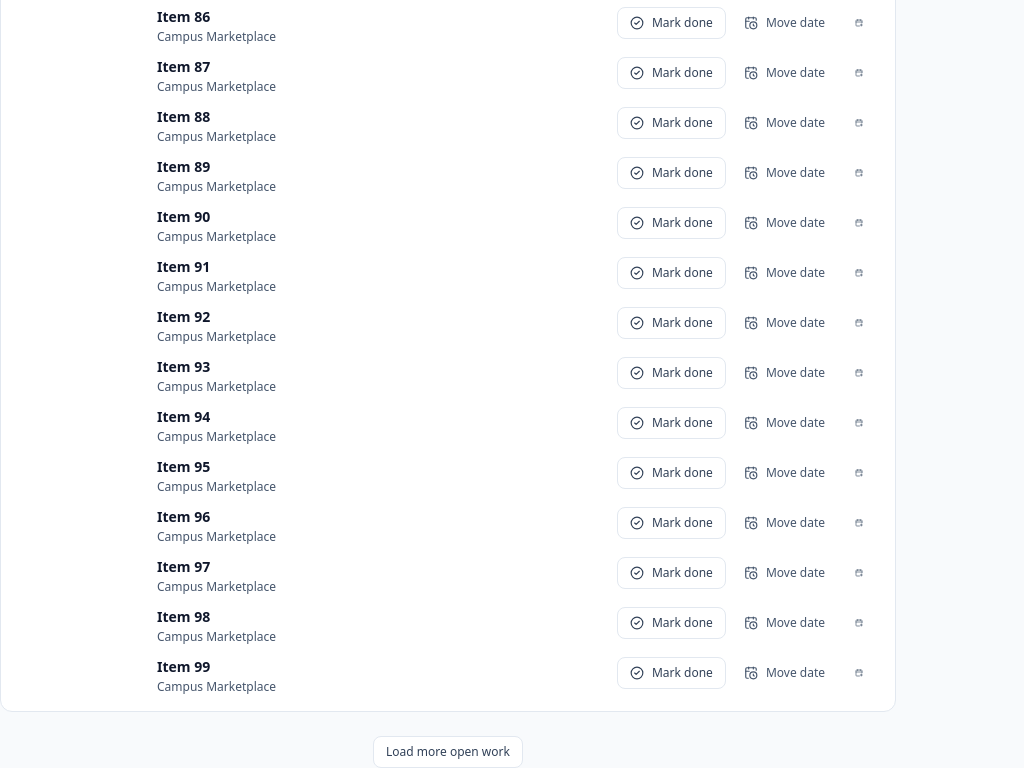
Test: OpenWorkPage — paging a long list › keeps what it has and says so when the next page fails
(page scrolled)
Click the button "Load more open work" at x=448, y=752, box [373,736,523,767]
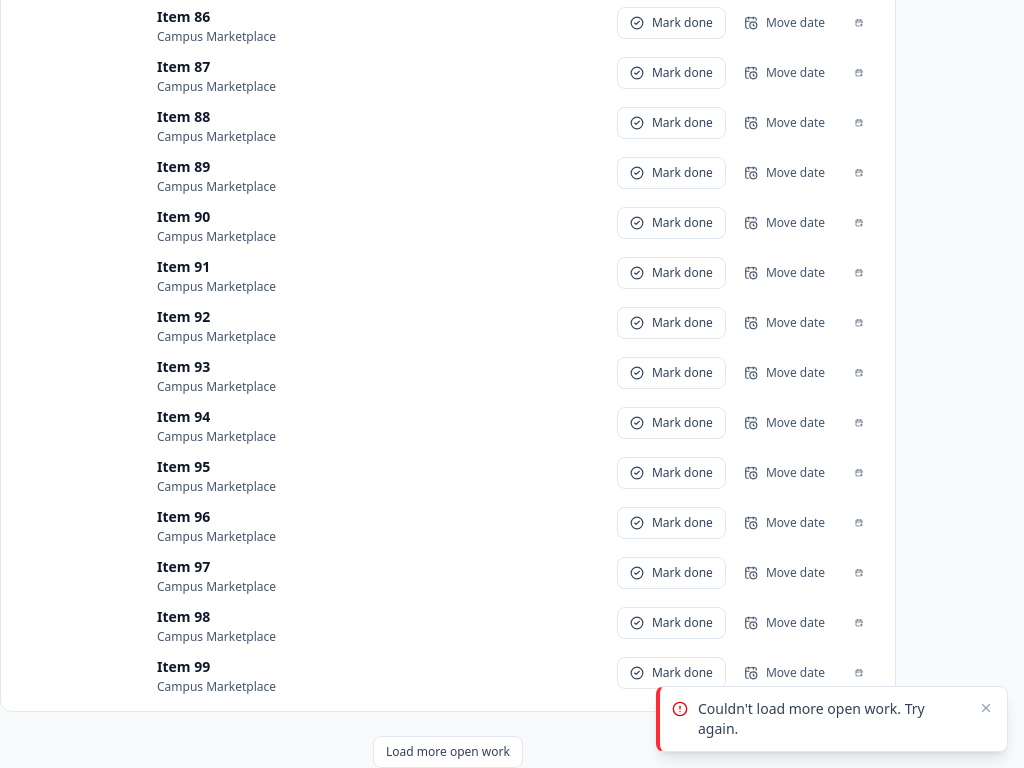
Now the message reads "Couldn't load more open work. Try again.", box [698,699,925,738]
